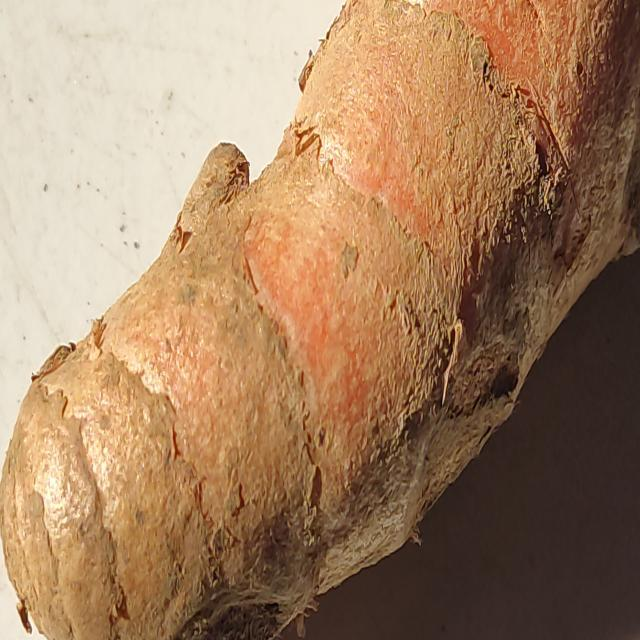ginger: (35, 121, 640, 618)
